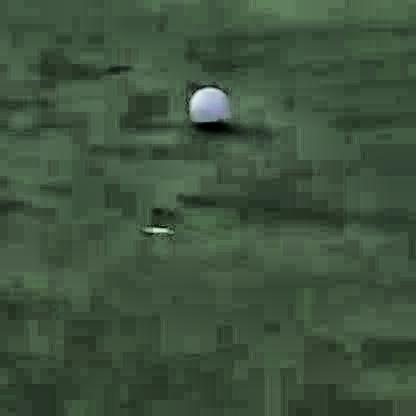golfball: (188, 83, 225, 122)
